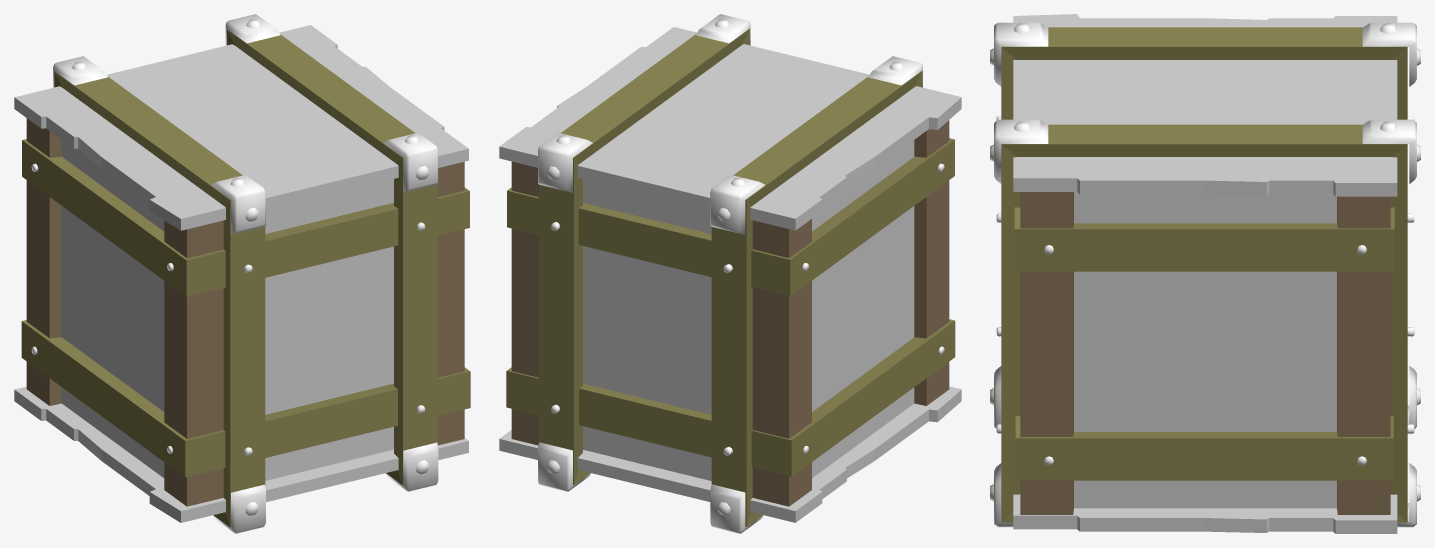
File: eastbrook_crate.glb
3 views of the same model, side by side, from view 1: azimuth 30°, elevation 25°; view 2: azimuth 150°, elevation 25°; view 3: azimuth 270°, elevation 25° (orthographic). The views are drawn at different scales.
Visible parts, largest first — view 1: props/MI_Trim_Furniture, props/MI_Trim_Metal; view 2: props/MI_Trim_Furniture, props/MI_Trim_Metal; view 3: props/MI_Trim_Furniture, props/MI_Trim_Metal.
Part boxes in pixels (bbox=[...]): props/MI_Trim_Furniture: bbox=[14, 25, 470, 527]; props/MI_Trim_Metal: bbox=[31, 14, 438, 533]; props/MI_Trim_Furniture: bbox=[499, 27, 961, 527]; props/MI_Trim_Metal: bbox=[538, 14, 944, 533]; props/MI_Trim_Furniture: bbox=[1001, 14, 1407, 533]; props/MI_Trim_Metal: bbox=[990, 22, 1420, 527].
Size of the model in its own units: 0.5896 by 0.6516 by 0.6358.
